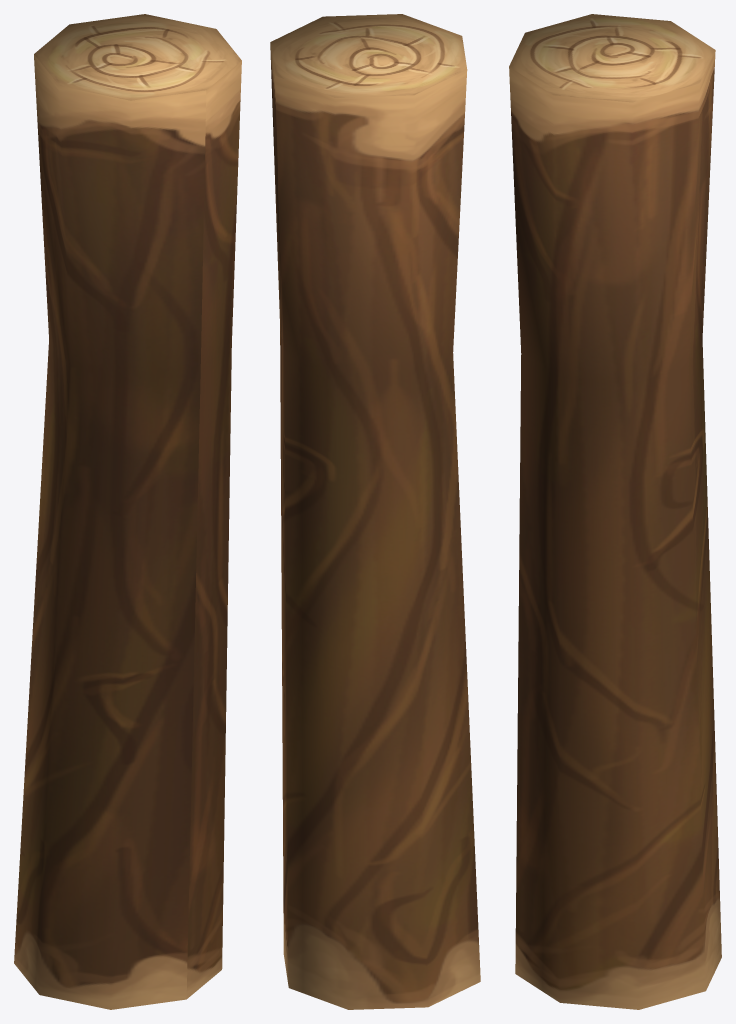
File: fence_pillar.fbx
3 views of the same model, side by side, from view 1: azimuth 30°, elevation 25°; view 2: azimuth 150°, elevation 25°; view 3: azimuth 270°, elevation 25° (orthographic).
Visible parts, largest first — view 1: fence_pillar; view 2: fence_pillar; view 3: fence_pillar.
Boxes of the visible parts, x1,y1,x2,y2 form: fence_pillar: (14, 14, 241, 1009); fence_pillar: (270, 14, 480, 1009); fence_pillar: (509, 14, 721, 1009).
Bounding box in the file's own units: 0.6455 × 2.89 × 0.6077.
